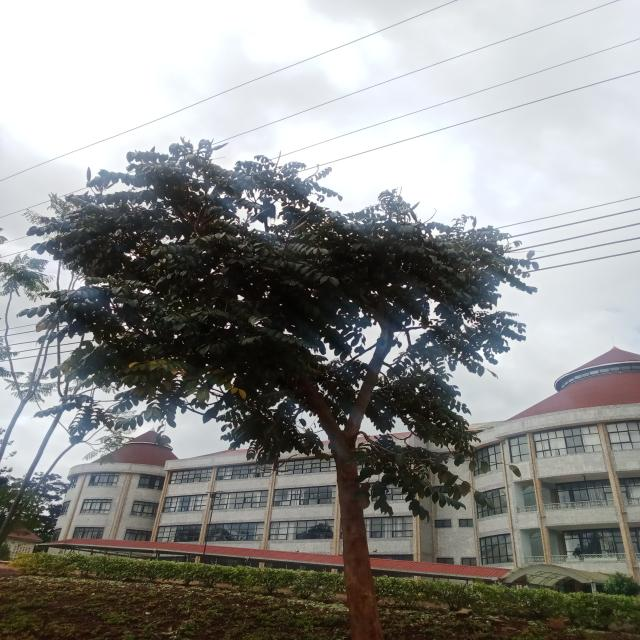Polyscias Kikuyensis: (27, 136, 543, 603)
